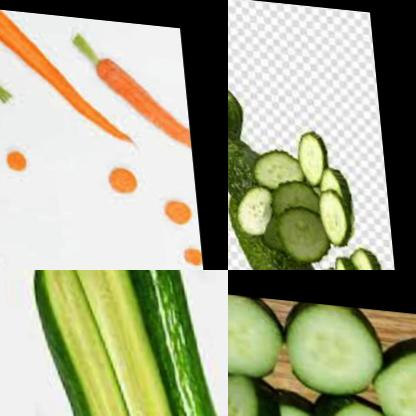carrot: (0, 4, 137, 141), (76, 35, 190, 141), (98, 155, 146, 194), (159, 185, 195, 226), (0, 142, 34, 175), (176, 234, 199, 265)
cucumber: (78, 270, 228, 416), (19, 270, 164, 416), (58, 270, 197, 416), (281, 297, 385, 402), (228, 189, 315, 270), (228, 289, 290, 388), (228, 128, 283, 215), (368, 330, 416, 416), (307, 163, 357, 238), (296, 231, 380, 270), (228, 361, 283, 416), (235, 386, 328, 416), (301, 390, 403, 416), (285, 126, 329, 184)
